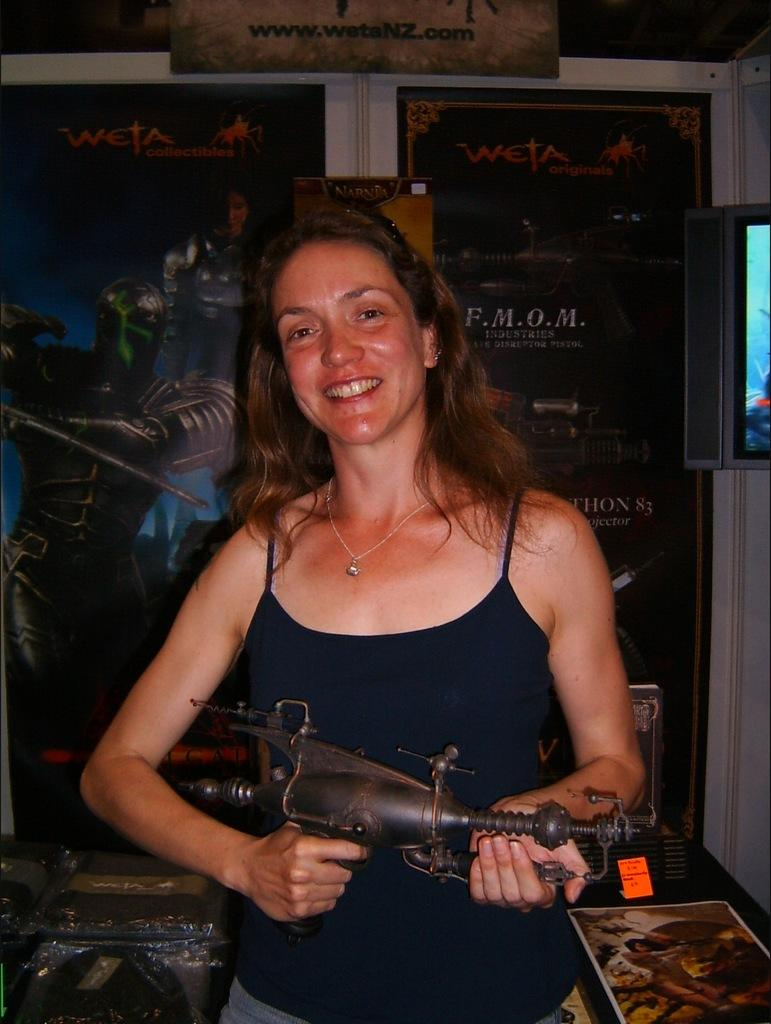Rifle: (161, 696, 646, 890)
